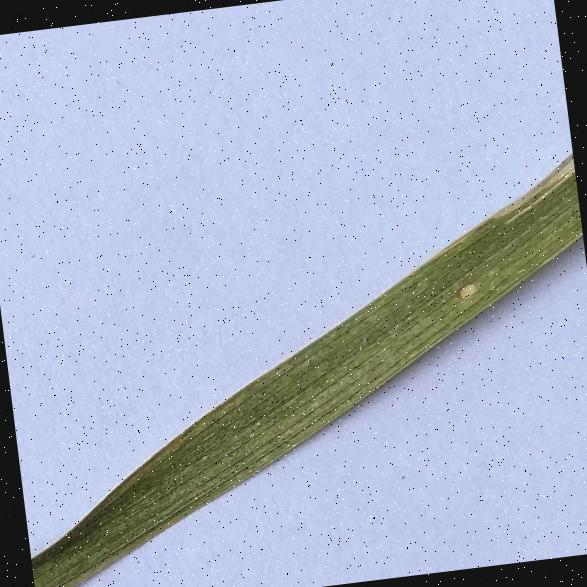Leaf_smut: (442, 263, 482, 304)
